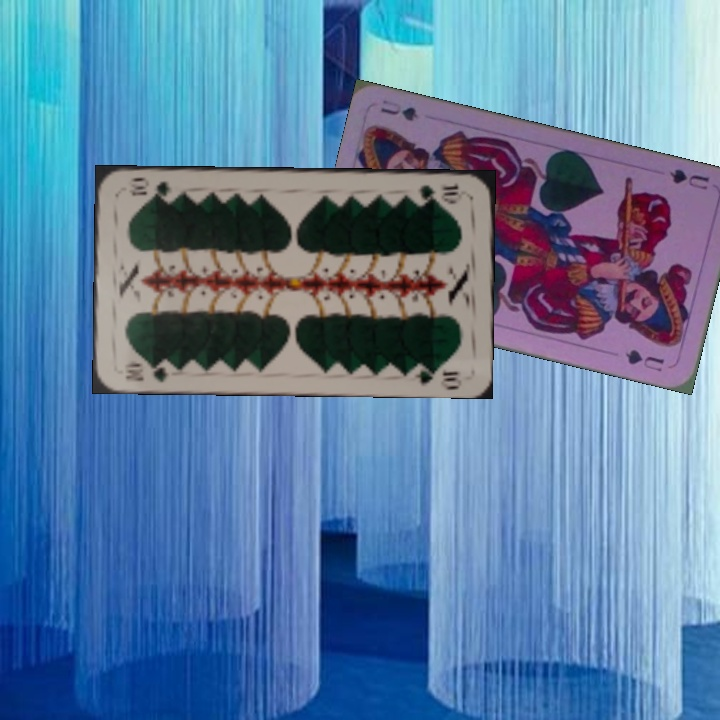G10: (120, 358, 176, 385), (415, 181, 469, 203)
GU: (665, 164, 712, 192)
